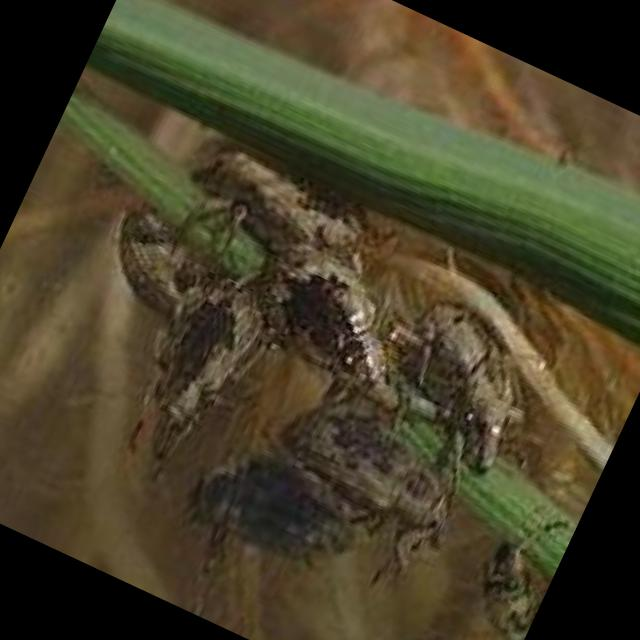rice-bug: (112, 130, 527, 587), (458, 526, 563, 640)
